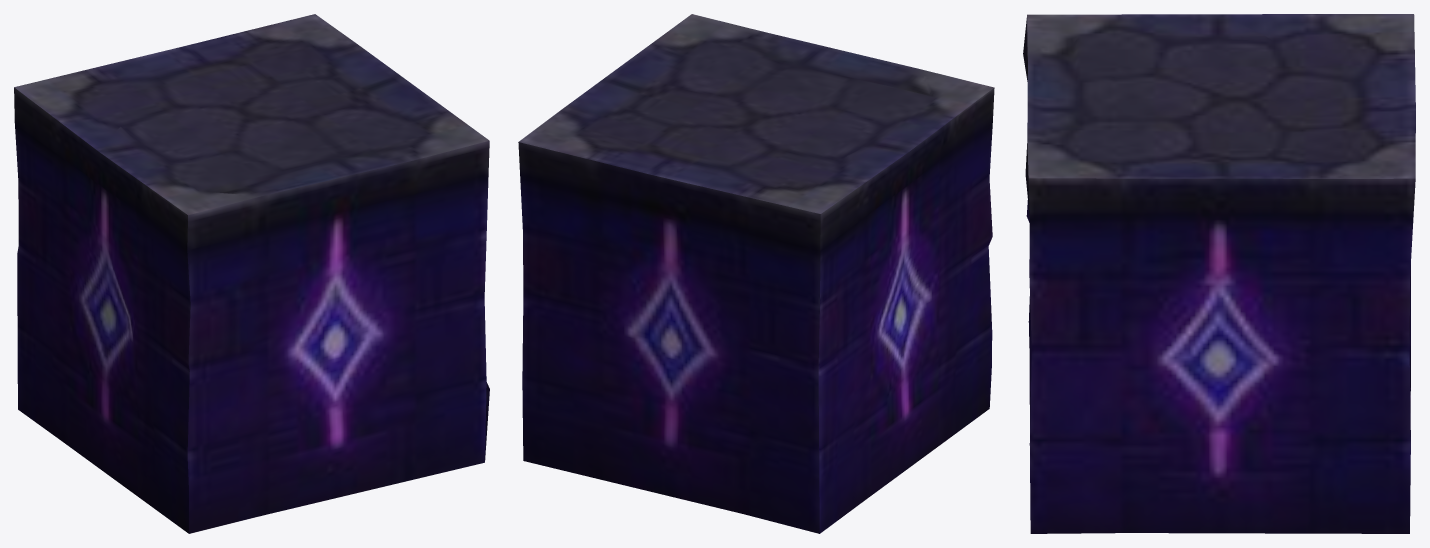
File: b_abimes_mur_1_lo.glb
The picture shows the model from 3 angles, left to right: view 1: azimuth 30°, elevation 25°; view 2: azimuth 150°, elevation 25°; view 3: azimuth 270°, elevation 25°; orthographic projection. The views are drawn at different scales.
Visible parts, largest first — view 1: geometry_0; view 2: geometry_0; view 3: geometry_0.
Part boxes in pixels (x1,y1,x2,y2): geometry_0: (14, 14, 489, 533); geometry_0: (518, 14, 994, 533); geometry_0: (1023, 14, 1415, 533).
Bounding box in the file's own units: 1 × 1.01 × 1.
Materials: 1 (1 with a texture image).
